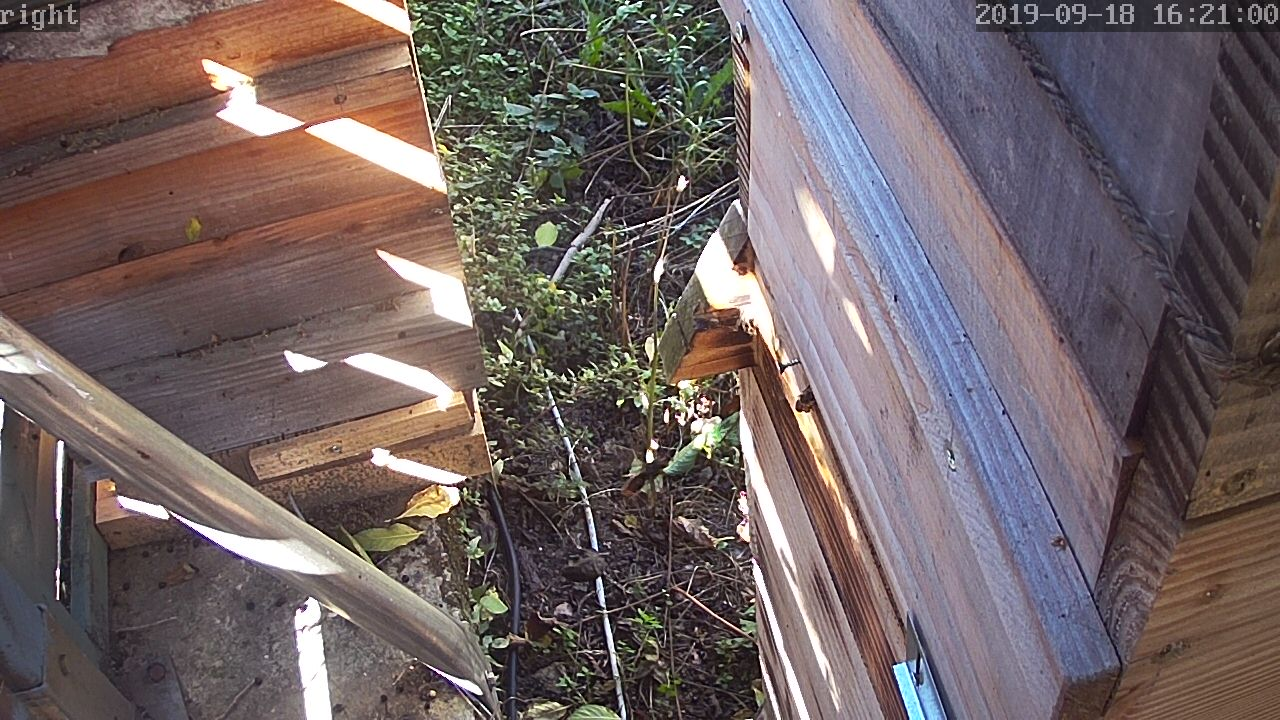bee: (784, 378, 822, 414)
hornet: (625, 451, 676, 500)
